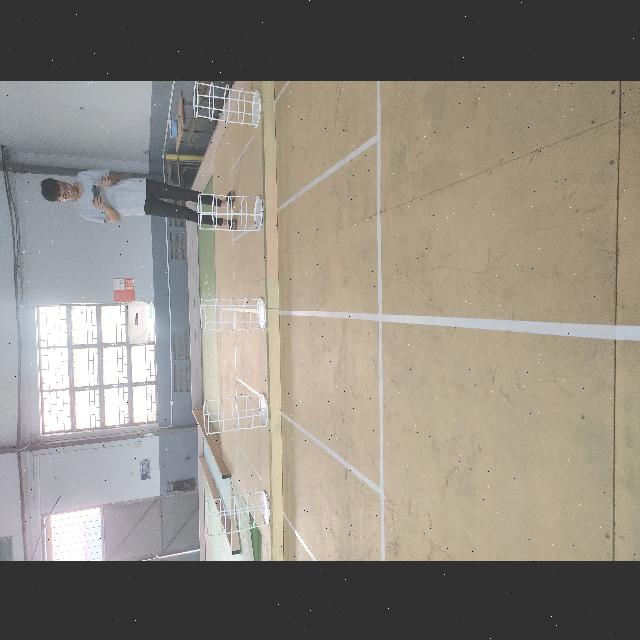S: (203, 487, 272, 537), (192, 80, 262, 126), (202, 393, 268, 435), (198, 191, 264, 231), (200, 295, 268, 330)
